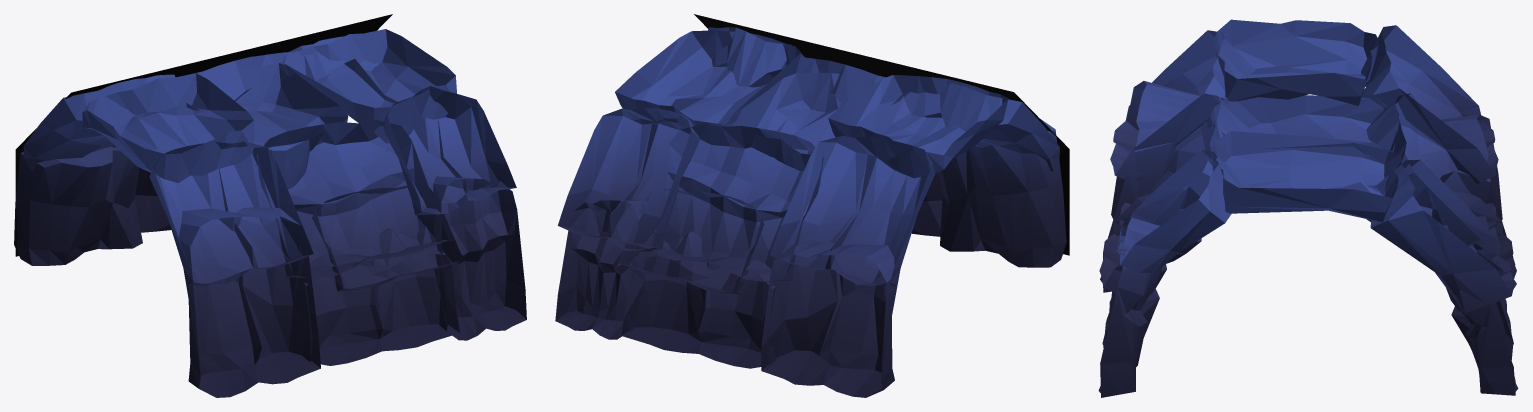
File: modularCave2.fbx
3 renders of one model, left to right at view 1: azimuth 30°, elevation 25°; view 2: azimuth 150°, elevation 25°; view 3: azimuth 270°, elevation 25°, orthographic. The views are drawn at different scales.
Visible parts, largest first — view 1: modularCave2; view 2: modularCave2; view 3: modularCave2.
Boxes of the visible parts, <box> form: modularCave2: <box>14,14,526,397</box>; modularCave2: <box>555,14,1069,397</box>; modularCave2: <box>1098,19,1518,397</box>.
Bounding box in the file's own units: 4642 × 2979 × 4969.
